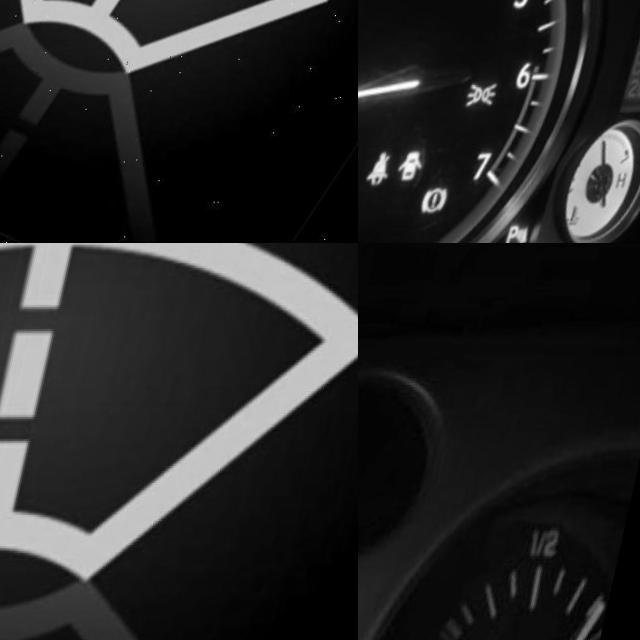Doors: (415, 146, 451, 189)
Washer Fluid: (0, 243, 358, 580), (0, 0, 358, 78)
